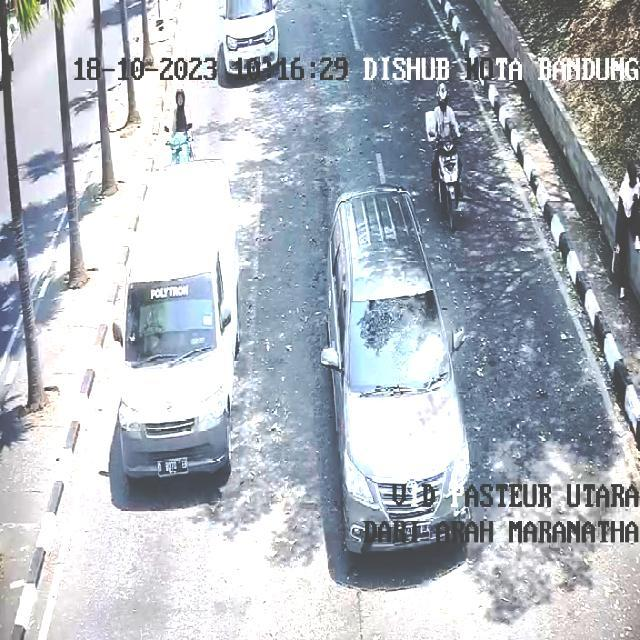car: (321, 188, 470, 553), (110, 161, 239, 482), (218, 0, 279, 87)
motorcycle: (434, 140, 462, 231)
motorcyclist: (425, 84, 460, 141), (166, 90, 192, 163)
